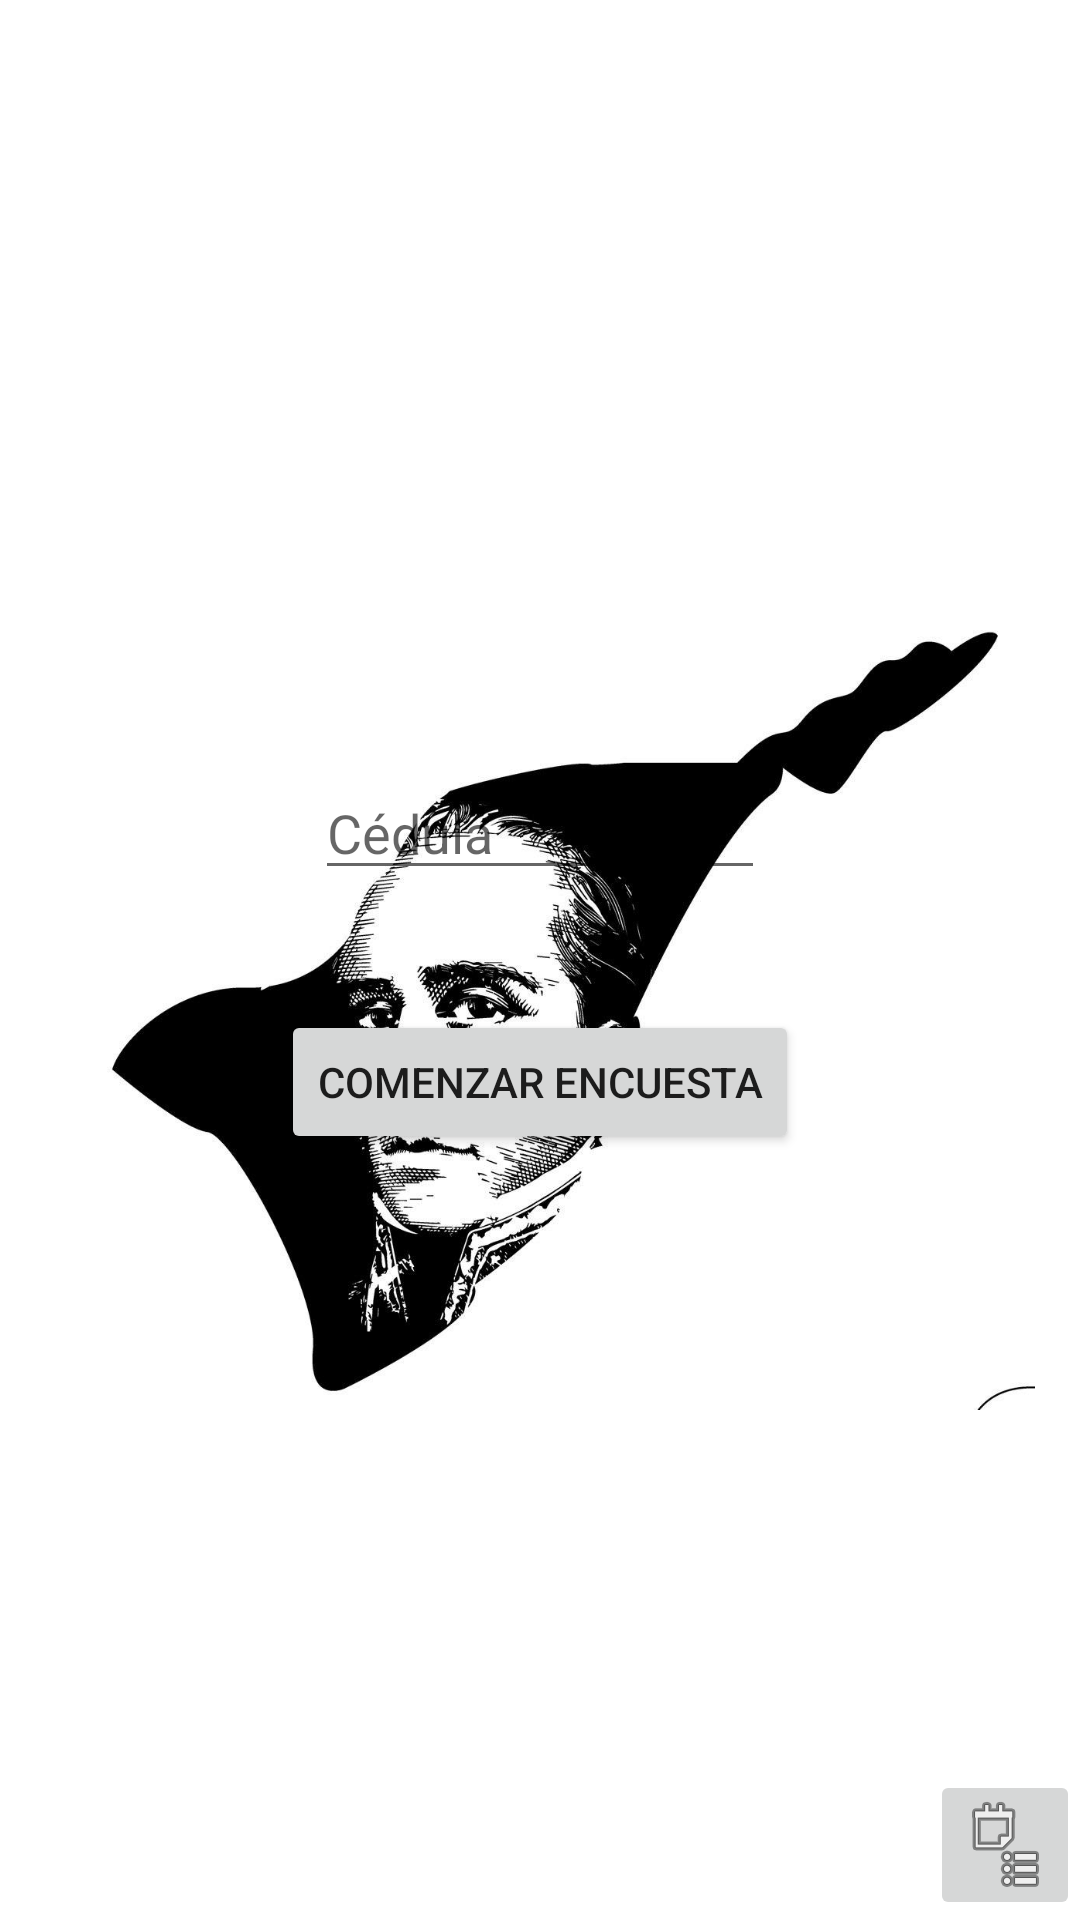

Named icons in this screenshot (1080px x 1920px) and their centers, (x=x, y=y):
agenda: (x=1005, y=1845)
